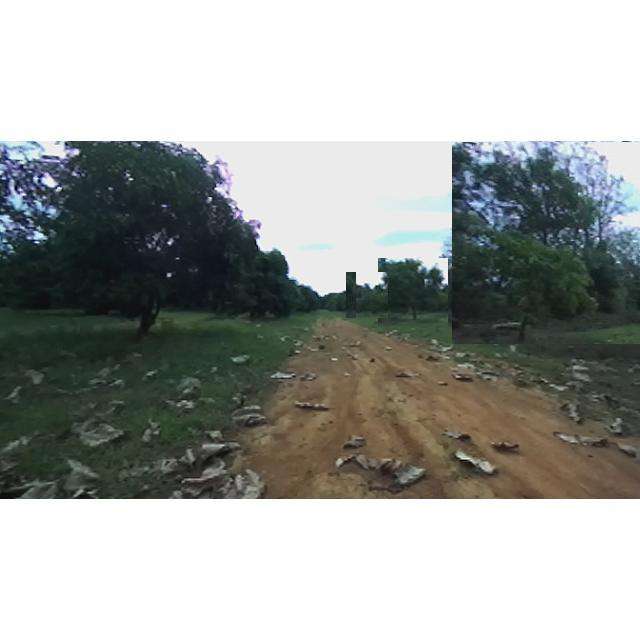direk: (0, 142, 290, 332), (452, 142, 640, 344), (211, 238, 305, 326), (378, 258, 448, 326), (346, 272, 388, 318)
